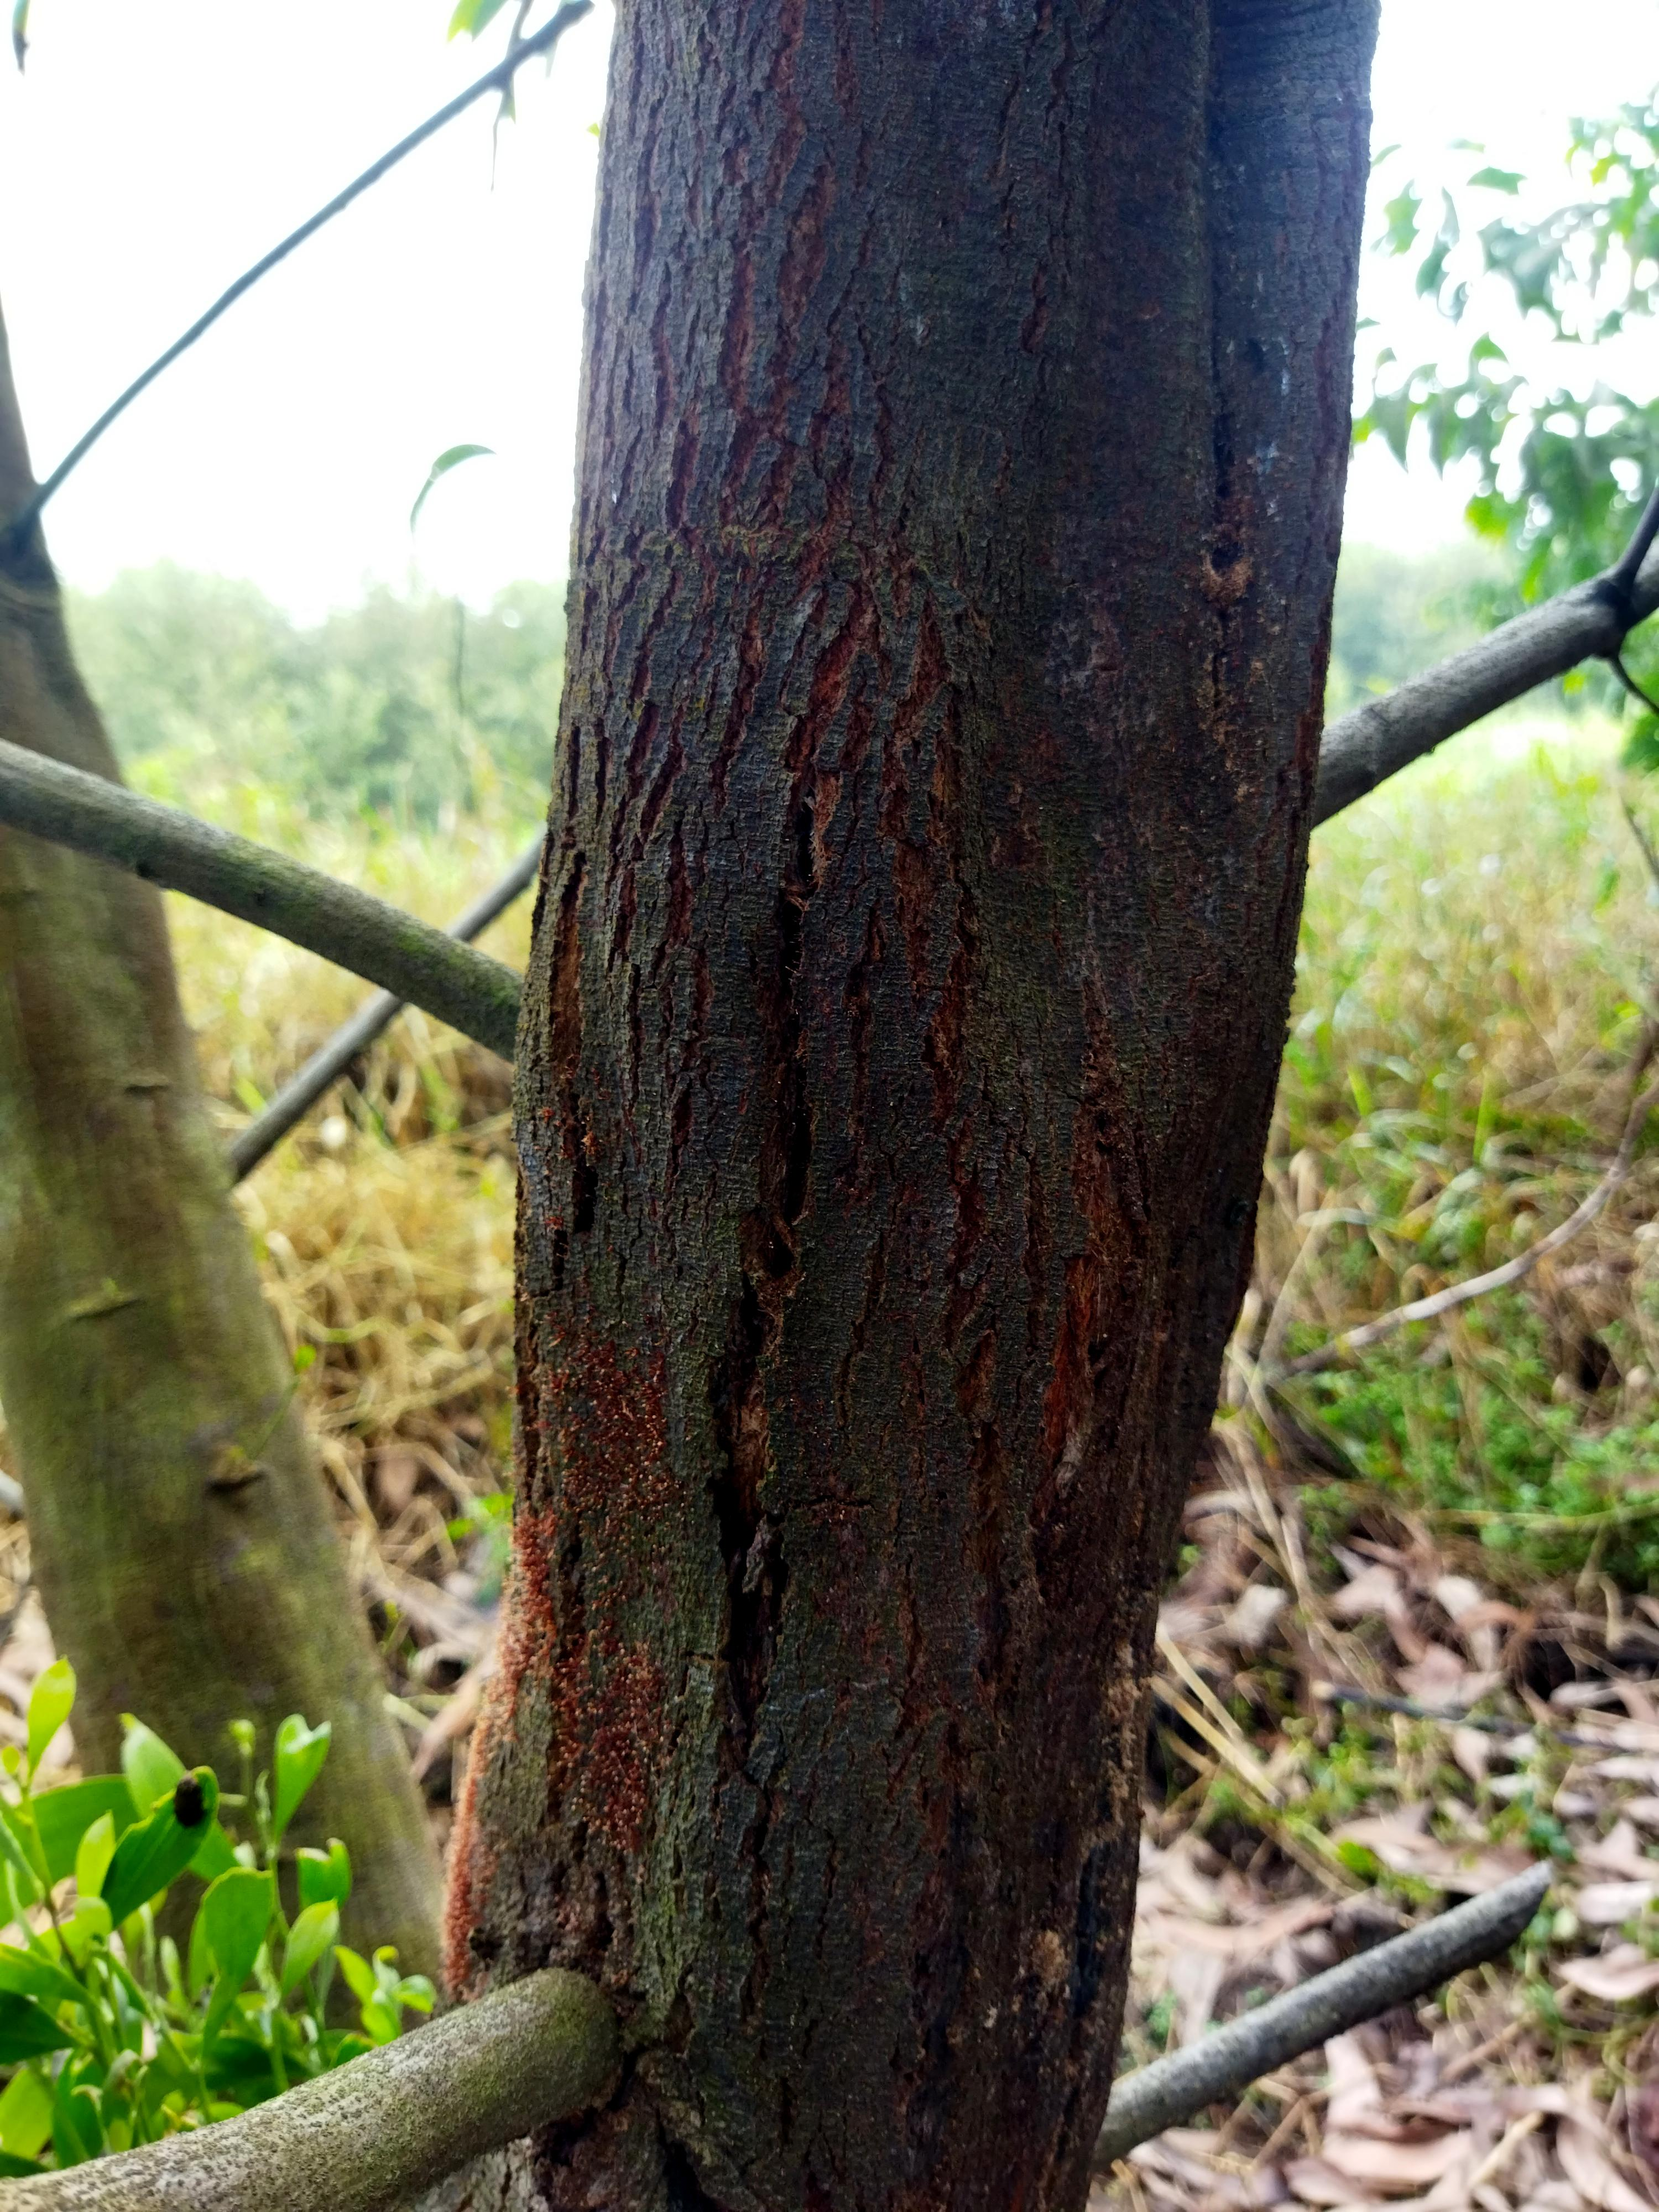Stem Deformation: (587, 178, 1141, 1947)
